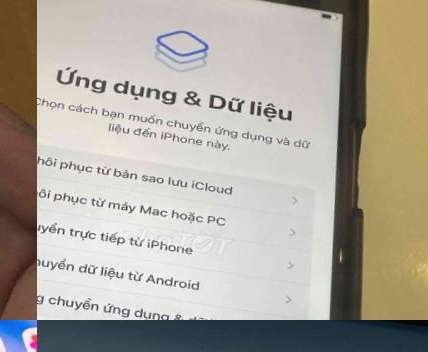scratch: (322, 237, 356, 271)
